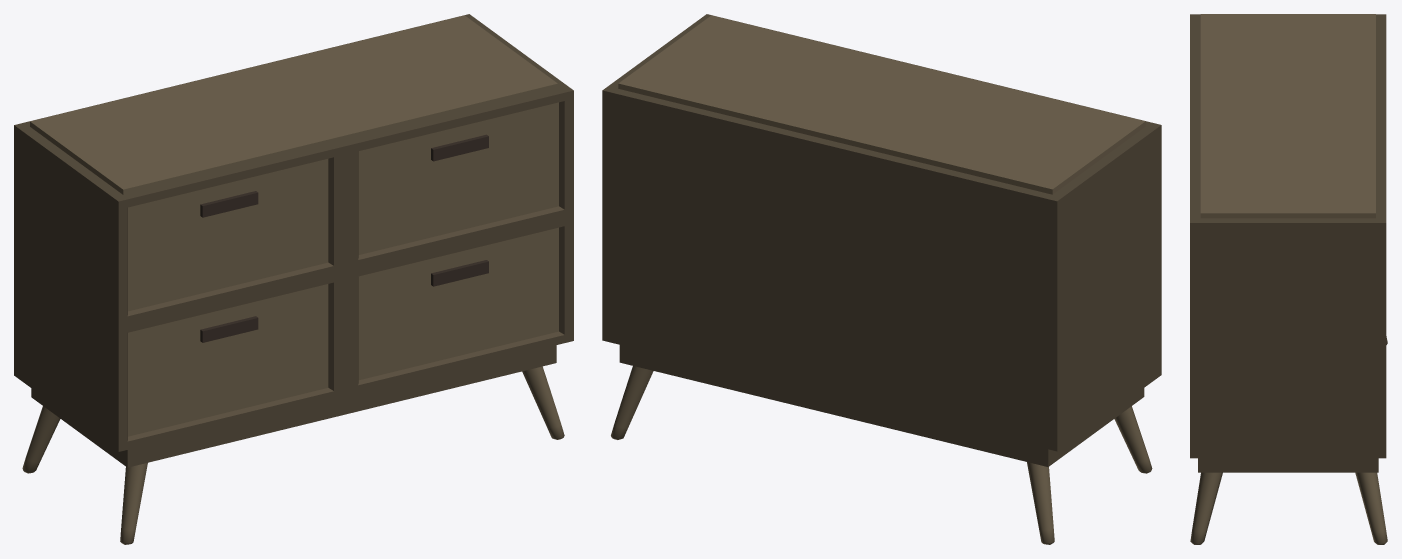
The model's file is Drawer_4.glb.
3 views of the same model, side by side, from view 1: azimuth 30°, elevation 25°; view 2: azimuth 150°, elevation 25°; view 3: azimuth 270°, elevation 25° (orthographic). The views are drawn at different scales.
Parts seen in each view (by area): view 1: Drawer_4; view 2: Drawer_4; view 3: Drawer_4.
Part boxes in pixels (box(x1,y1,x2,y2)): Drawer_4: box(14, 14, 573, 544); Drawer_4: box(602, 14, 1161, 544); Drawer_4: box(1190, 14, 1387, 544).
Bounding box in the file's own units: 0.8382 × 0.621 × 0.3356.
